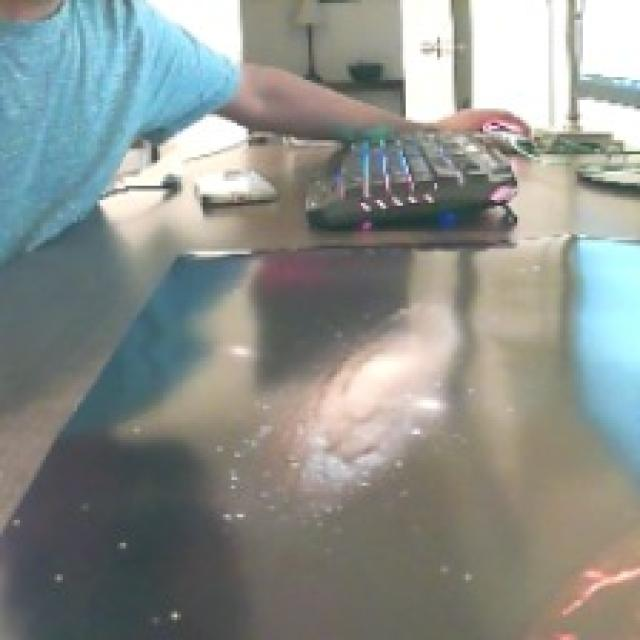Galaxy: (264, 302, 456, 536)
Sun: (523, 529, 640, 640)
